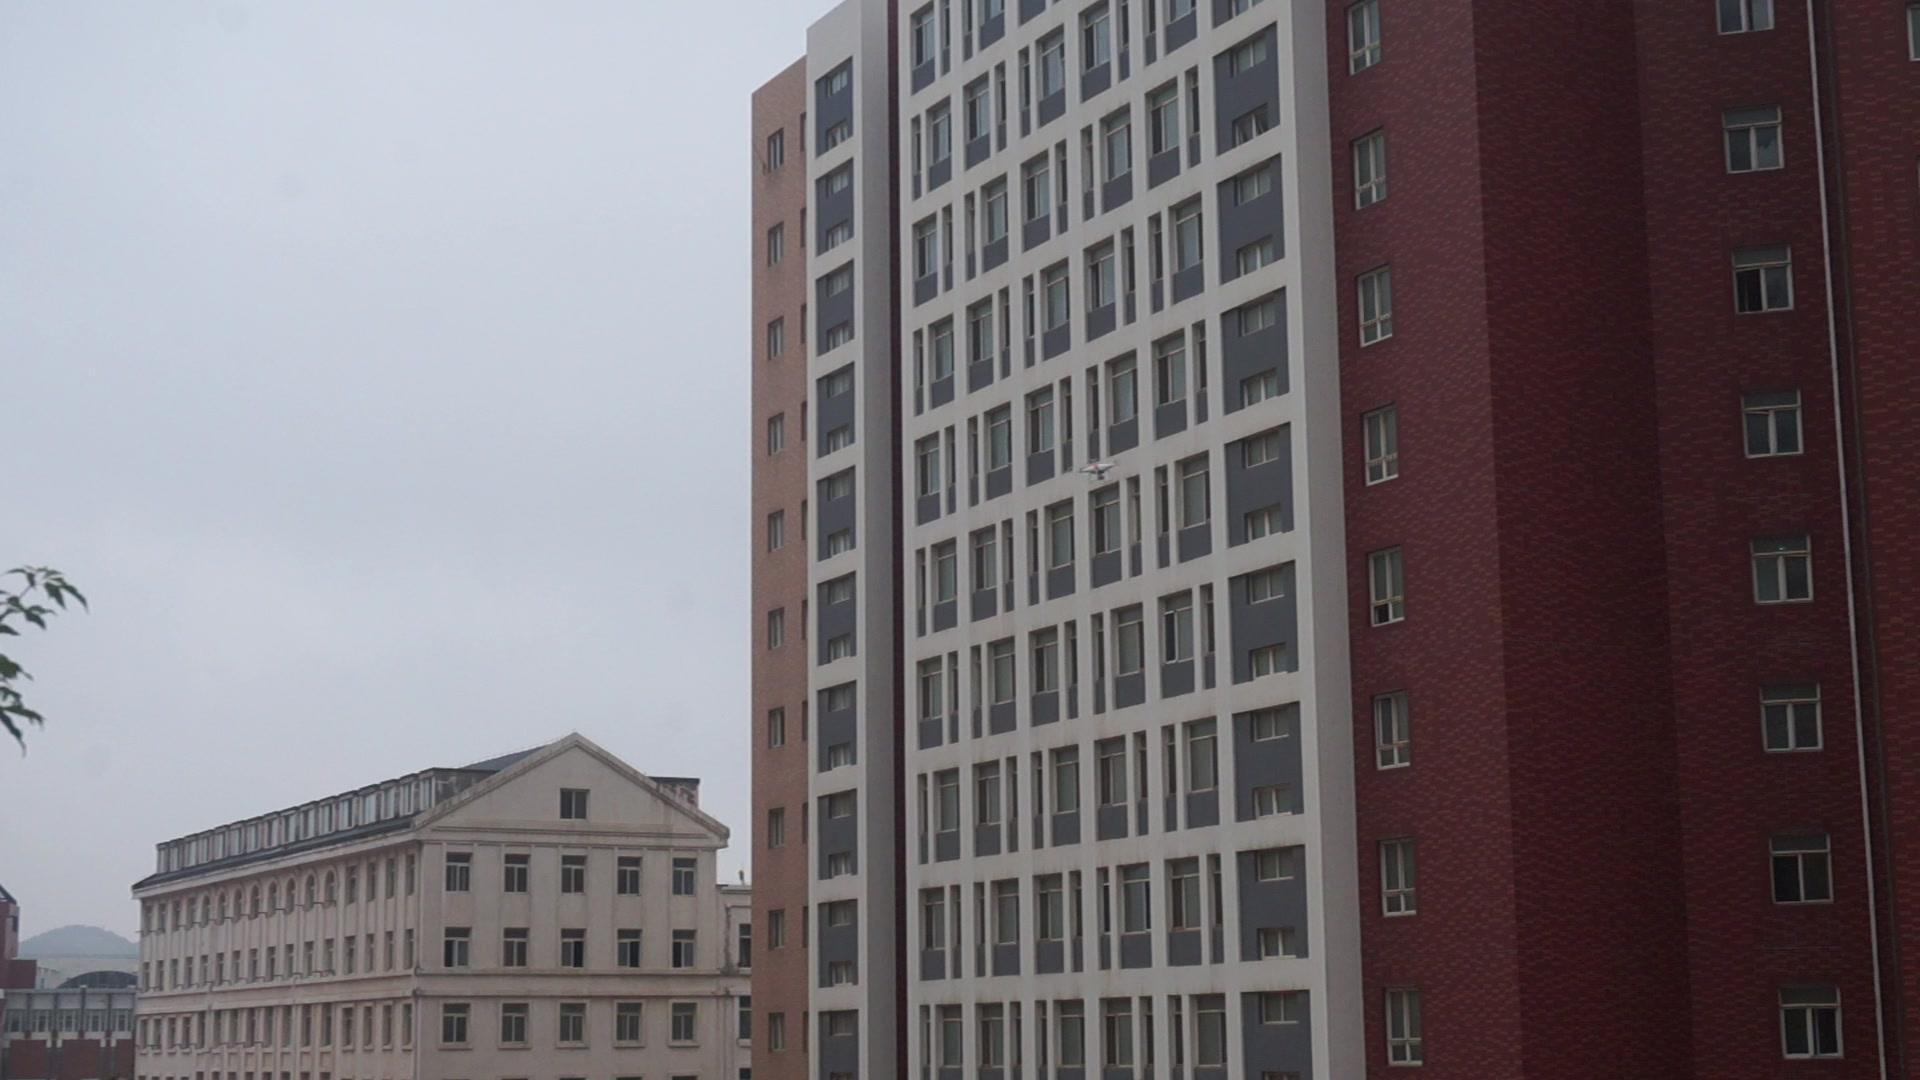UAV: (1077, 459, 1120, 483)
